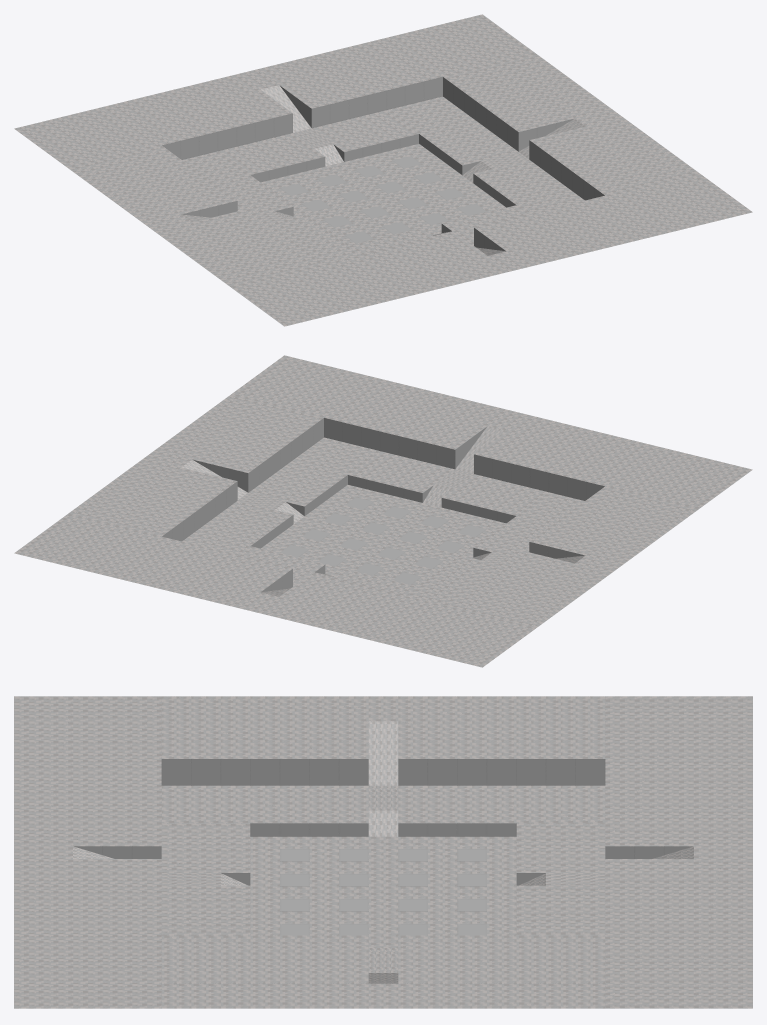
Rendered from Forum.fbx.
The picture shows the model from 3 angles, top to bottom: view 1: azimuth 30°, elevation 25°; view 2: azimuth 150°, elevation 25°; view 3: azimuth 270°, elevation 25°; orthographic projection. The views are drawn at different scales.
Visible parts, largest first — view 1: Forum; view 2: Forum; view 3: Forum.
Boxes of the visible parts, box(x1,y1,x2,y2) form: Forum: box(14, 14, 752, 326); Forum: box(14, 355, 752, 667); Forum: box(14, 696, 752, 1008).
Bounding box in the file's own units: 20000 × 1200 × 20000.
Materials: 2 (2 with a texture image).
